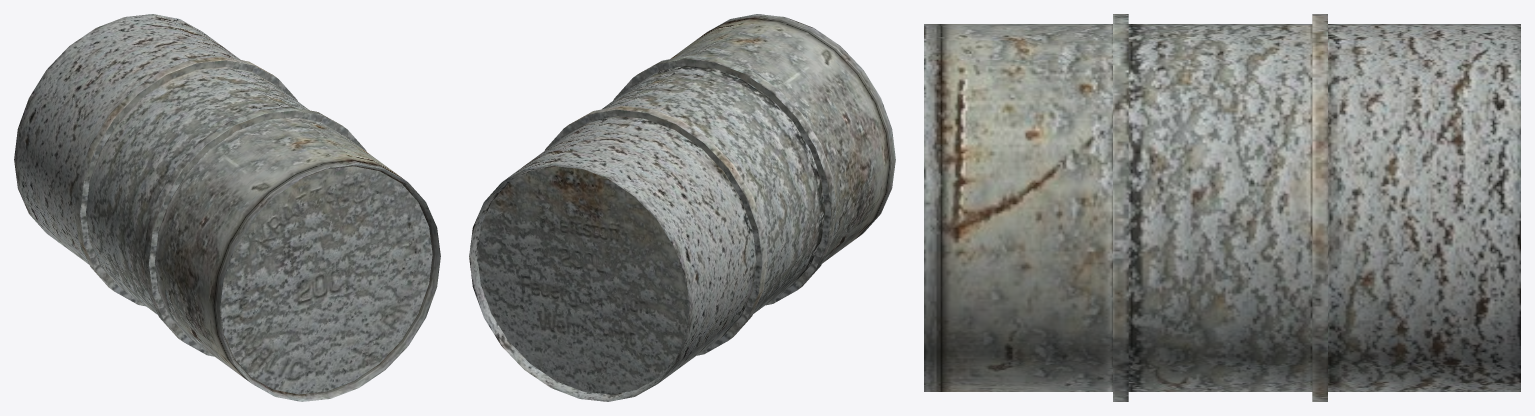
File: prop_barrel_white_snow.glb
3 renders of one model, left to right at view 1: azimuth 30°, elevation 25°; view 2: azimuth 150°, elevation 25°; view 3: azimuth 270°, elevation 25°, orthographic. The views are drawn at different scales.
Bounding box in the file's own units: 28.93 × 28.93 × 44.32.
1 material, 1 textured.
